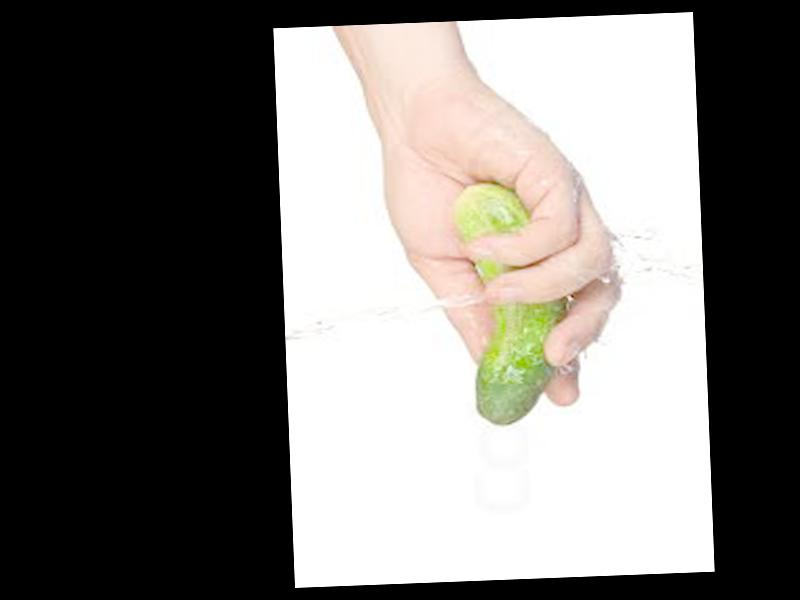Cucumber: (456, 182, 564, 428)
